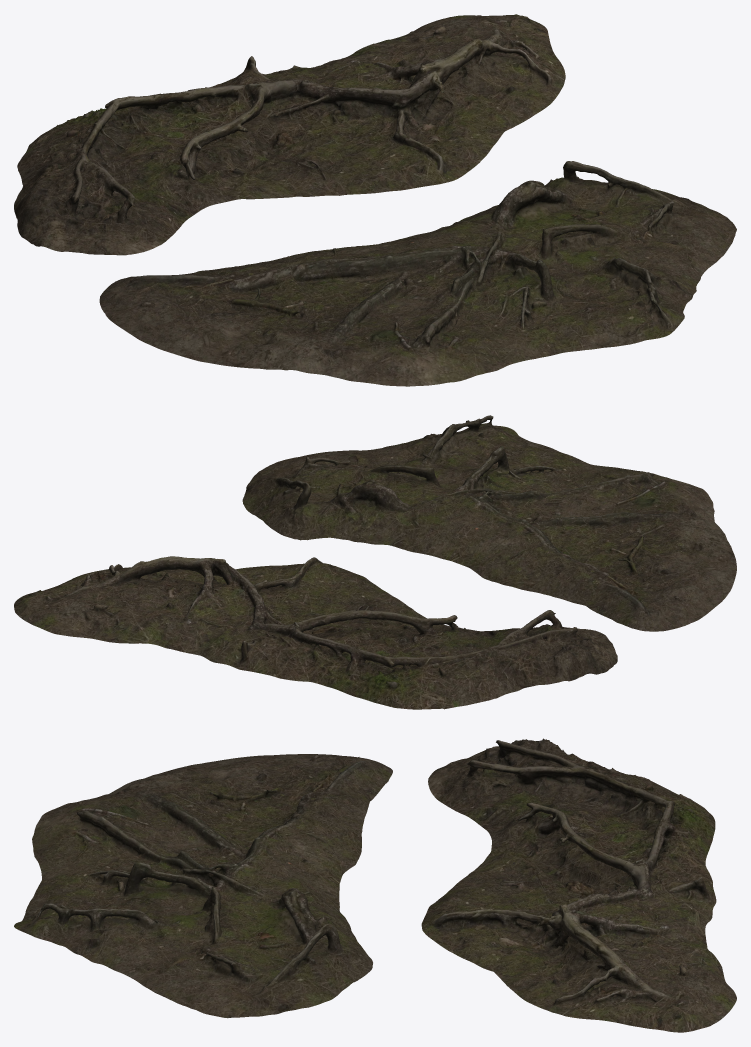
Rendered from roots.glb.
3 views of the same model, one above another, from view 1: azimuth 30°, elevation 25°; view 2: azimuth 150°, elevation 25°; view 3: azimuth 270°, elevation 25° (orthographic). The views are drawn at different scales.
Visible parts, largest first — view 1: pine_roots_b, pine_roots_a; view 2: pine_roots_b, pine_roots_a; view 3: pine_roots_b, pine_roots_a.
Part boxes in pixels (bbox=[...]): pine_roots_b: bbox=[99, 161, 736, 386]; pine_roots_a: bbox=[14, 14, 565, 255]; pine_roots_b: bbox=[242, 415, 736, 631]; pine_roots_a: bbox=[14, 556, 617, 709]; pine_roots_b: bbox=[14, 754, 392, 1018]; pine_roots_a: bbox=[421, 738, 736, 1032].
Bounding box in the file's own units: 1.77 × 0.1548 × 1.89.
Materials: 2 (2 with a texture image).
